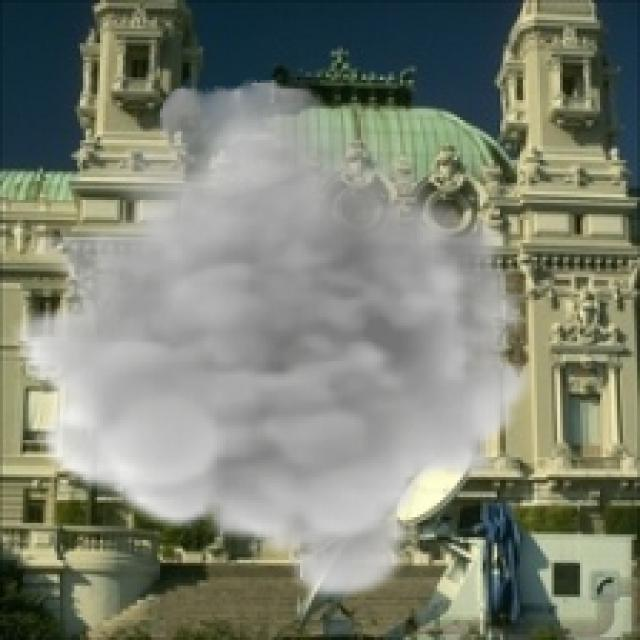Smoke: (8, 77, 534, 606)
